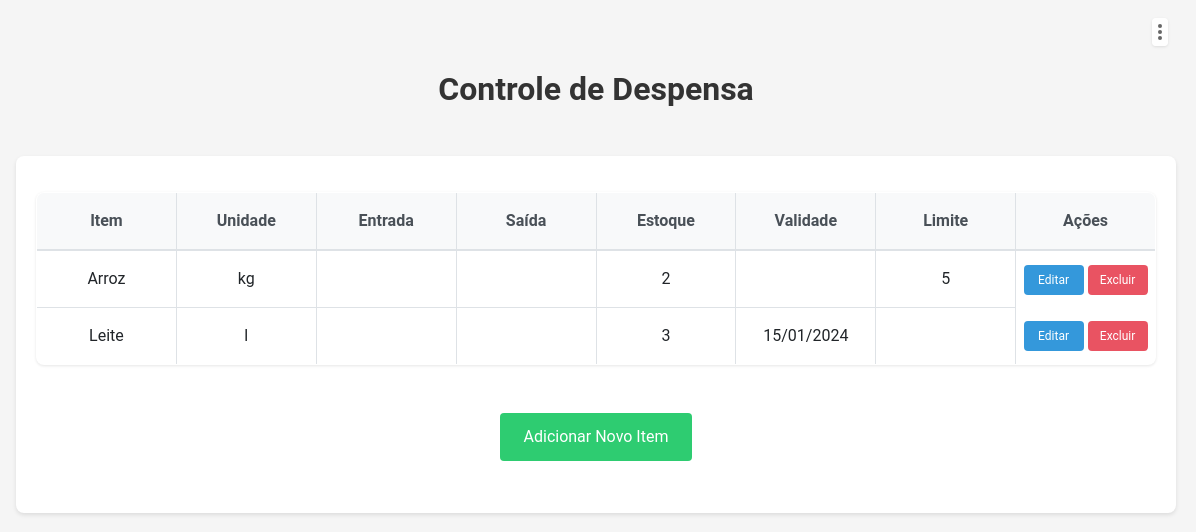
Test: Home Component › esconde os botões após clicar novamente no ícone
Primeiro clique - mostra os botões
Click the icon with test id "three-dots-icon" at x=1160, y=32, box [1152,18,1168,46]
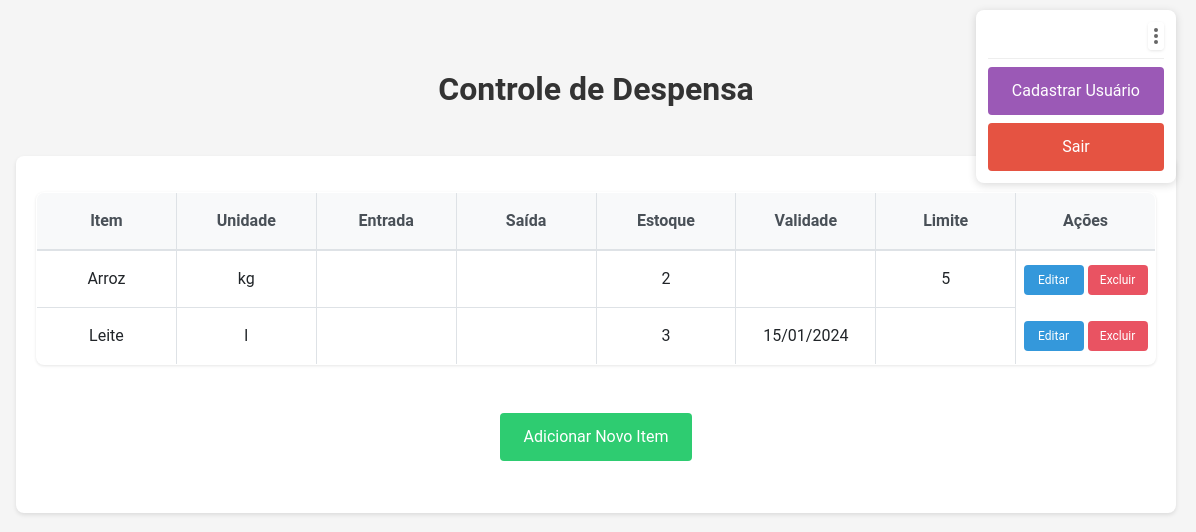
Check: the button with test id "register-button" is shown, box [988,67,1164,115]
Check: the button with test id "logout-button" is shown, box [988,123,1164,171]
Segundo clique - esconde os botões
Click the icon with test id "three-dots-icon" at x=1156, y=36, box [1148,22,1164,50]
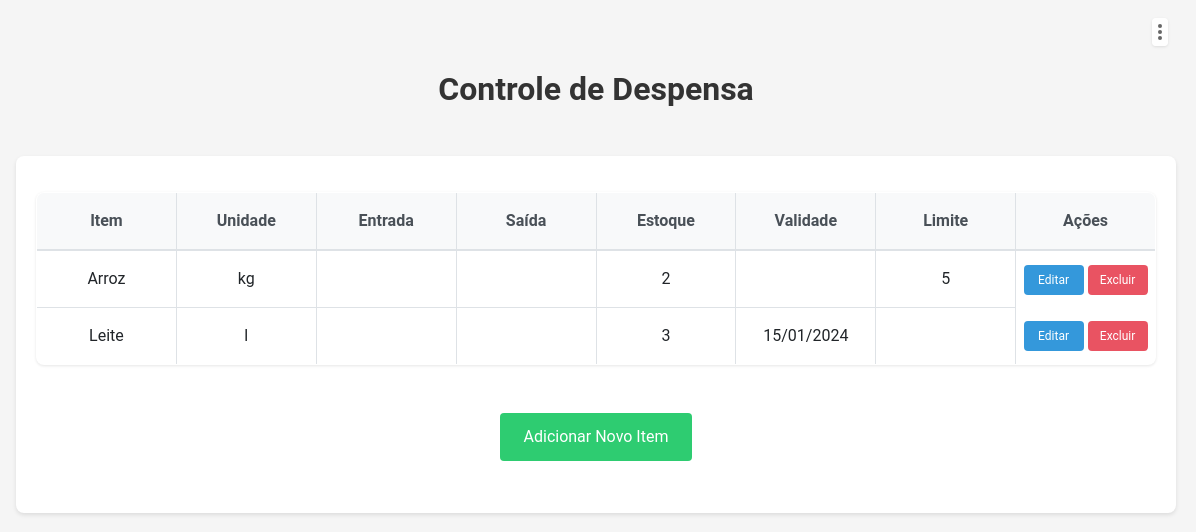
Check: the button with test id "register-button" is gone
Check: the button with test id "logout-button" is gone
